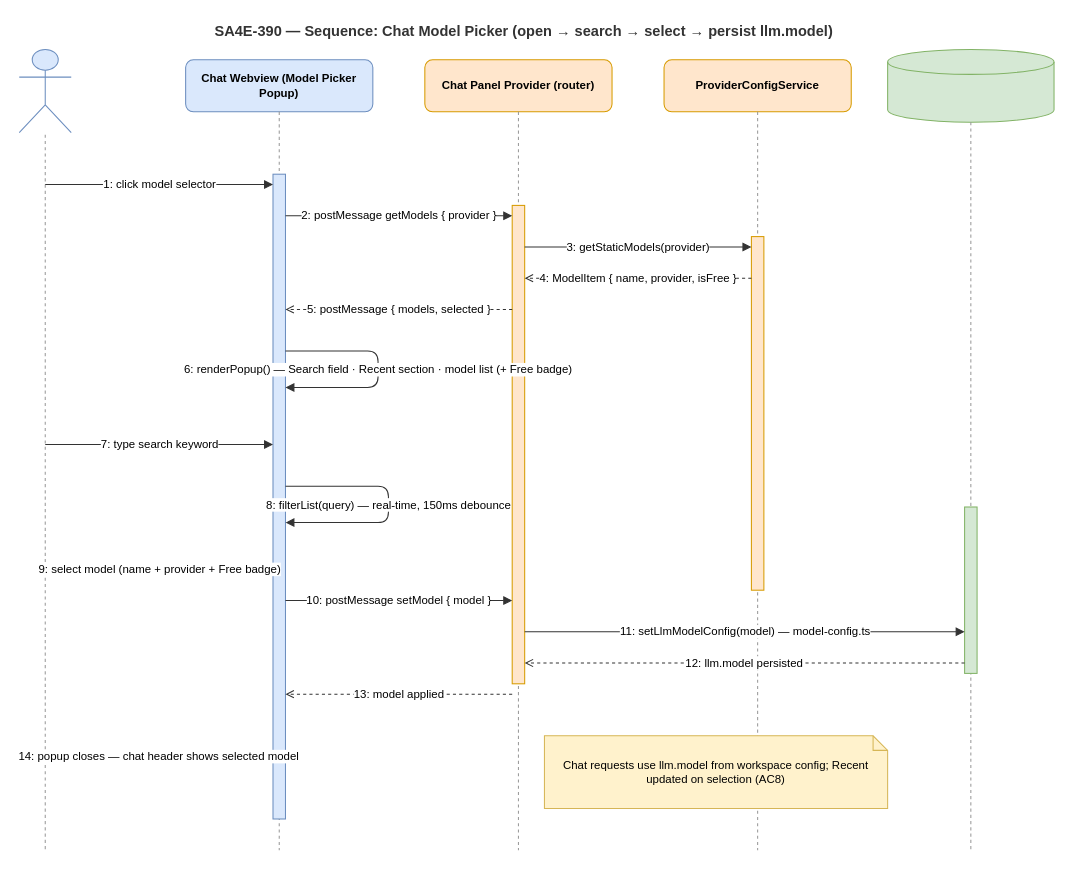
Some shapes in this 1072 by 869 pixel diagram are drawn without their labels. The shapes that lost their labels are listed below. From the top down, each one's centre as x and y in pixels, then its label:
At point 44,90: "Developer".
At point 970,85: "Workspace Config (sdlcAgents.llm.model)".
